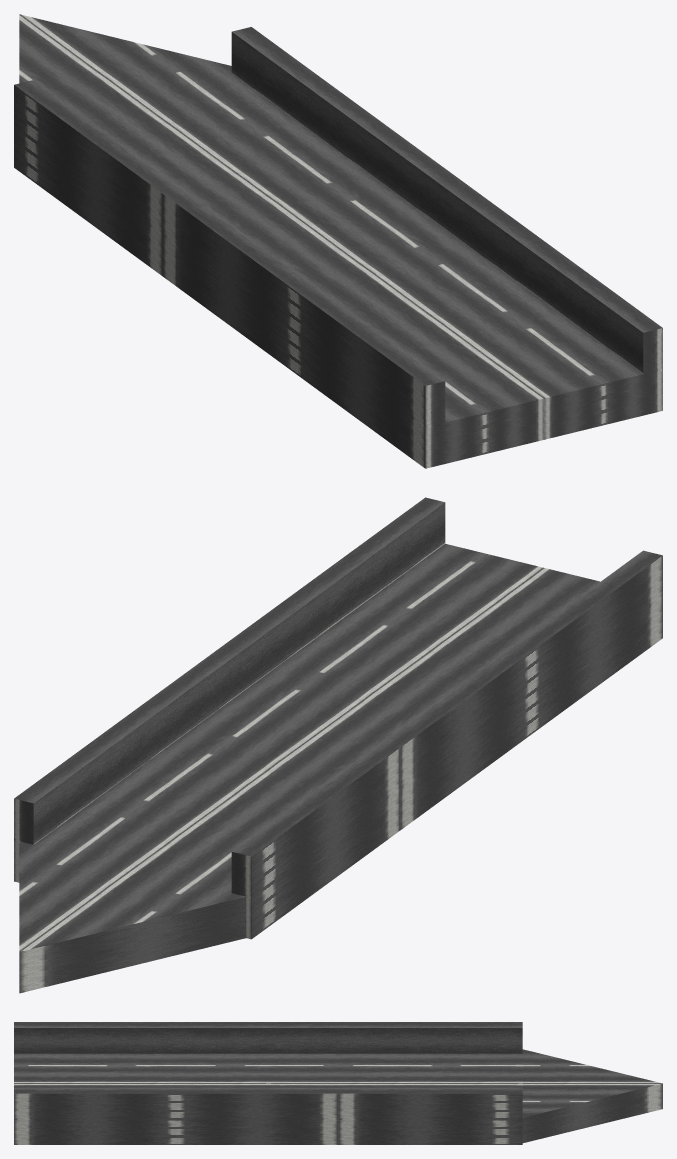
File: A-Start.obj
The picture shows the model from 3 angles, top to bottom: view 1: azimuth 30°, elevation 25°; view 2: azimuth 150°, elevation 25°; view 3: azimuth 270°, elevation 25°; orthographic projection. The views are drawn at different scales.
Parts seen in each view (by area): view 1: polySurface6; view 2: polySurface6; view 3: polySurface6.
Part boxes in pixels (left/top/right/bottom): polySurface6: left=14, top=14, right=662, bottom=468; polySurface6: left=14, top=497, right=662, bottom=993; polySurface6: left=14, top=1022, right=662, bottom=1144.
Size of the model in its own units: 472 by 157 by 1808.
1 material, 1 textured.
